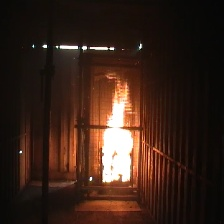fire: (96, 70, 135, 186)
